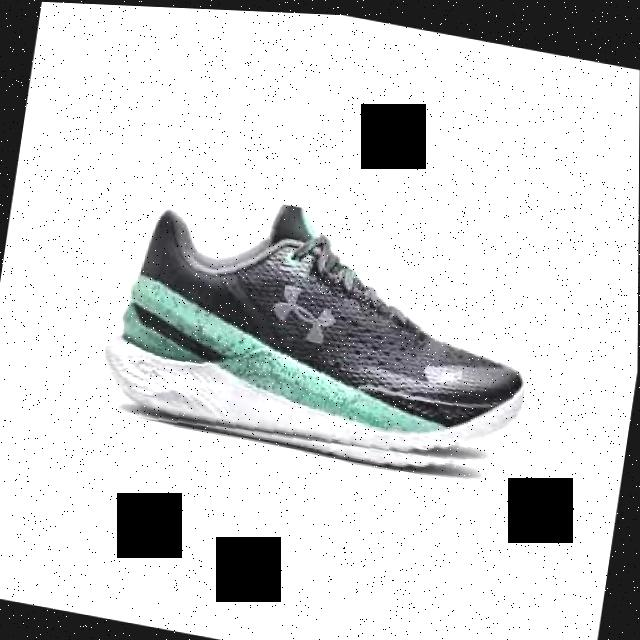shoe: (87, 172, 546, 485)
